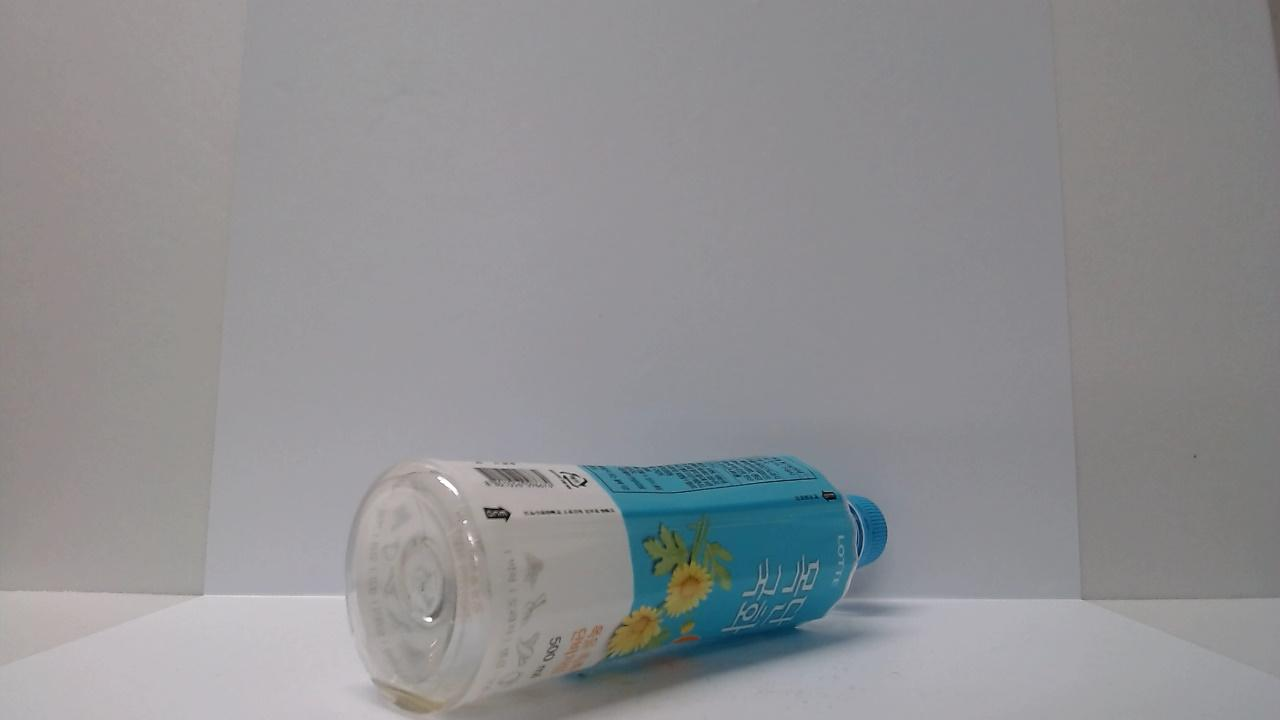bottle: (318, 417, 905, 700)
